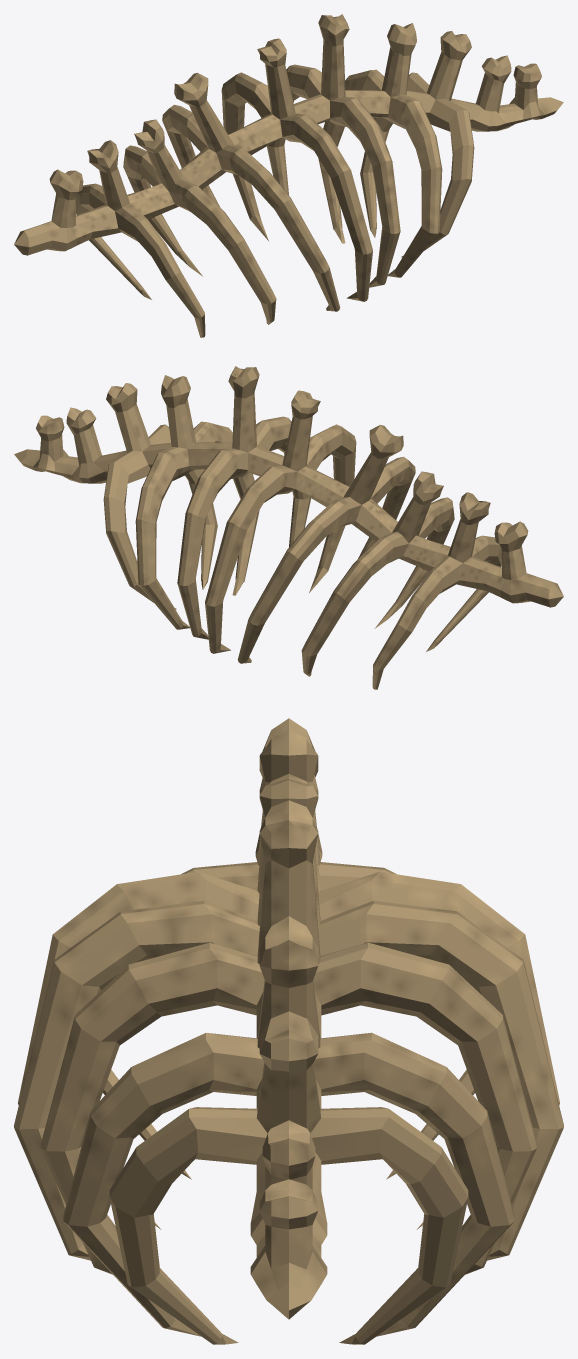
The model's file is Skeleton_Ribs.fbx.
3 renders of one model, top to bottom at view 1: azimuth 30°, elevation 25°; view 2: azimuth 150°, elevation 25°; view 3: azimuth 270°, elevation 25°, orthographic. The views are drawn at different scales.
Parts seen in each view (by area): view 1: Cube.003; view 2: Cube.003; view 3: Cube.003.
Part boxes in pixels (<box>): Cube.003: <box>14,14,563,337</box>; Cube.003: <box>14,366,563,689</box>; Cube.003: <box>14,718,563,1344</box>.
Size of the model in its own units: 422 by 195 by 187.
